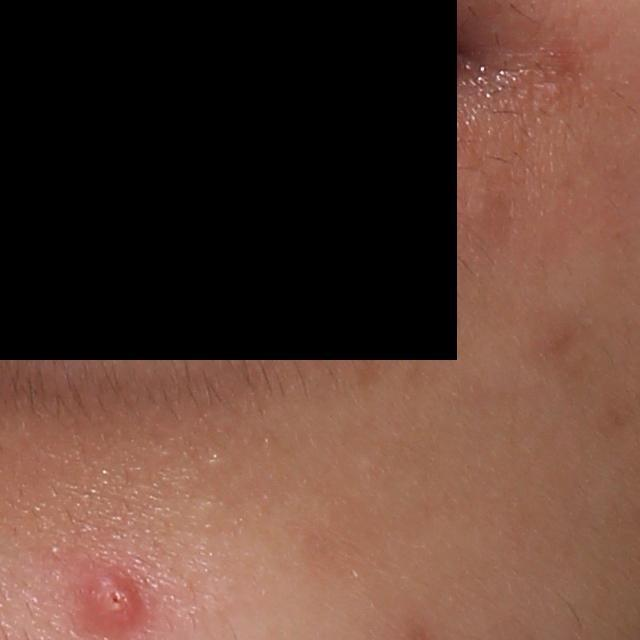papule: (78, 565, 142, 627)
